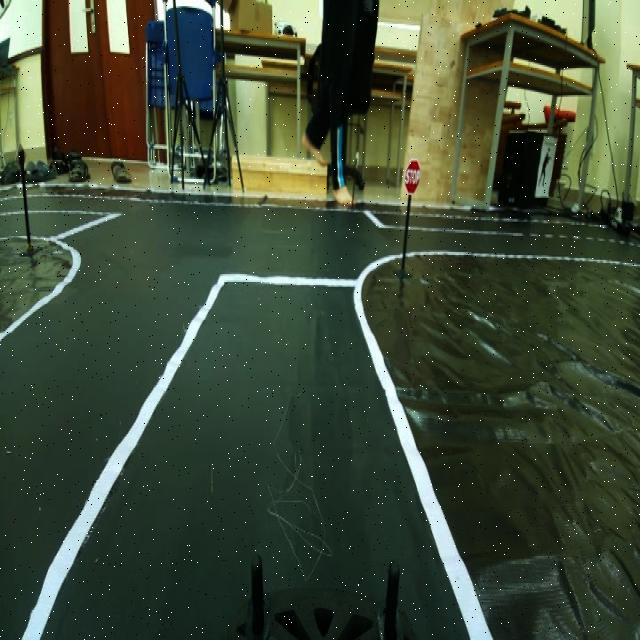stop: (399, 150, 425, 195)
